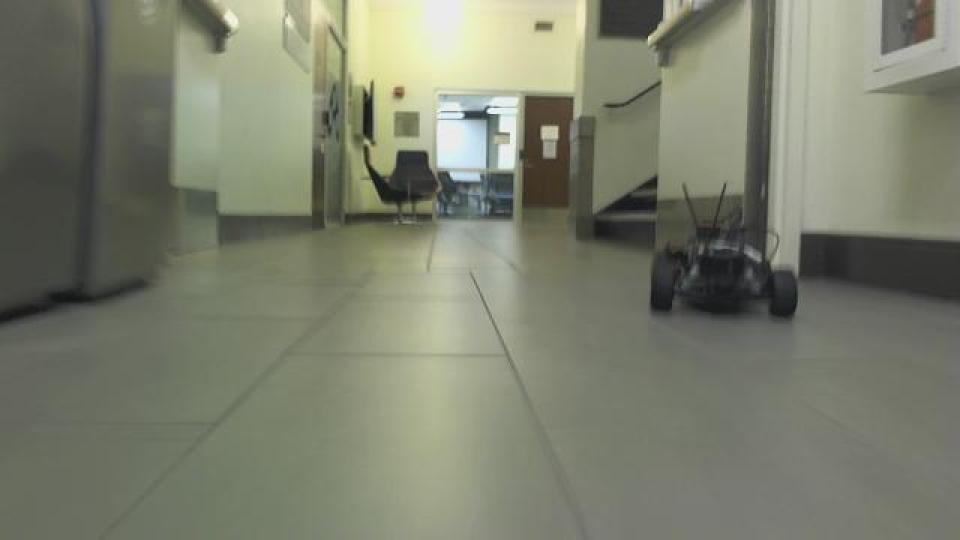car: (645, 179, 801, 321)
